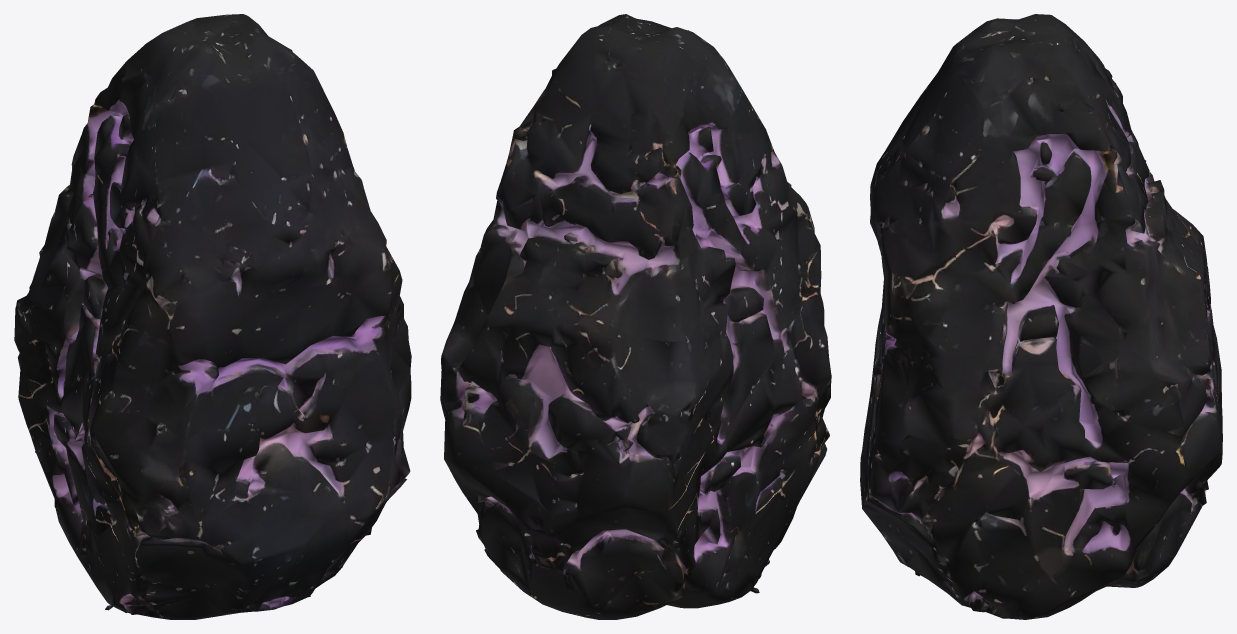
The model's file is dark_meteor_stone.glb.
3 views of the same model, side by side, from view 1: azimuth 30°, elevation 25°; view 2: azimuth 150°, elevation 25°; view 3: azimuth 270°, elevation 25° (orthographic). The views are drawn at different scales.
Visible parts, largest first — view 1: tripo_node_d1452d8f-9a6f-47ca-bf64-7c896aa06303; view 2: tripo_node_d1452d8f-9a6f-47ca-bf64-7c896aa06303; view 3: tripo_node_d1452d8f-9a6f-47ca-bf64-7c896aa06303.
Part boxes in pixels (bbox=[...]): tripo_node_d1452d8f-9a6f-47ca-bf64-7c896aa06303: bbox=[14, 14, 411, 619]; tripo_node_d1452d8f-9a6f-47ca-bf64-7c896aa06303: bbox=[440, 14, 831, 619]; tripo_node_d1452d8f-9a6f-47ca-bf64-7c896aa06303: bbox=[860, 14, 1222, 619].
Size of the model in its own units: 0.5978 by 0.9995 by 0.5993.
1 material, 1 textured.
